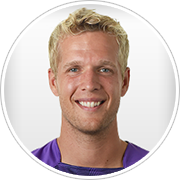face: (43, 36, 132, 134)
